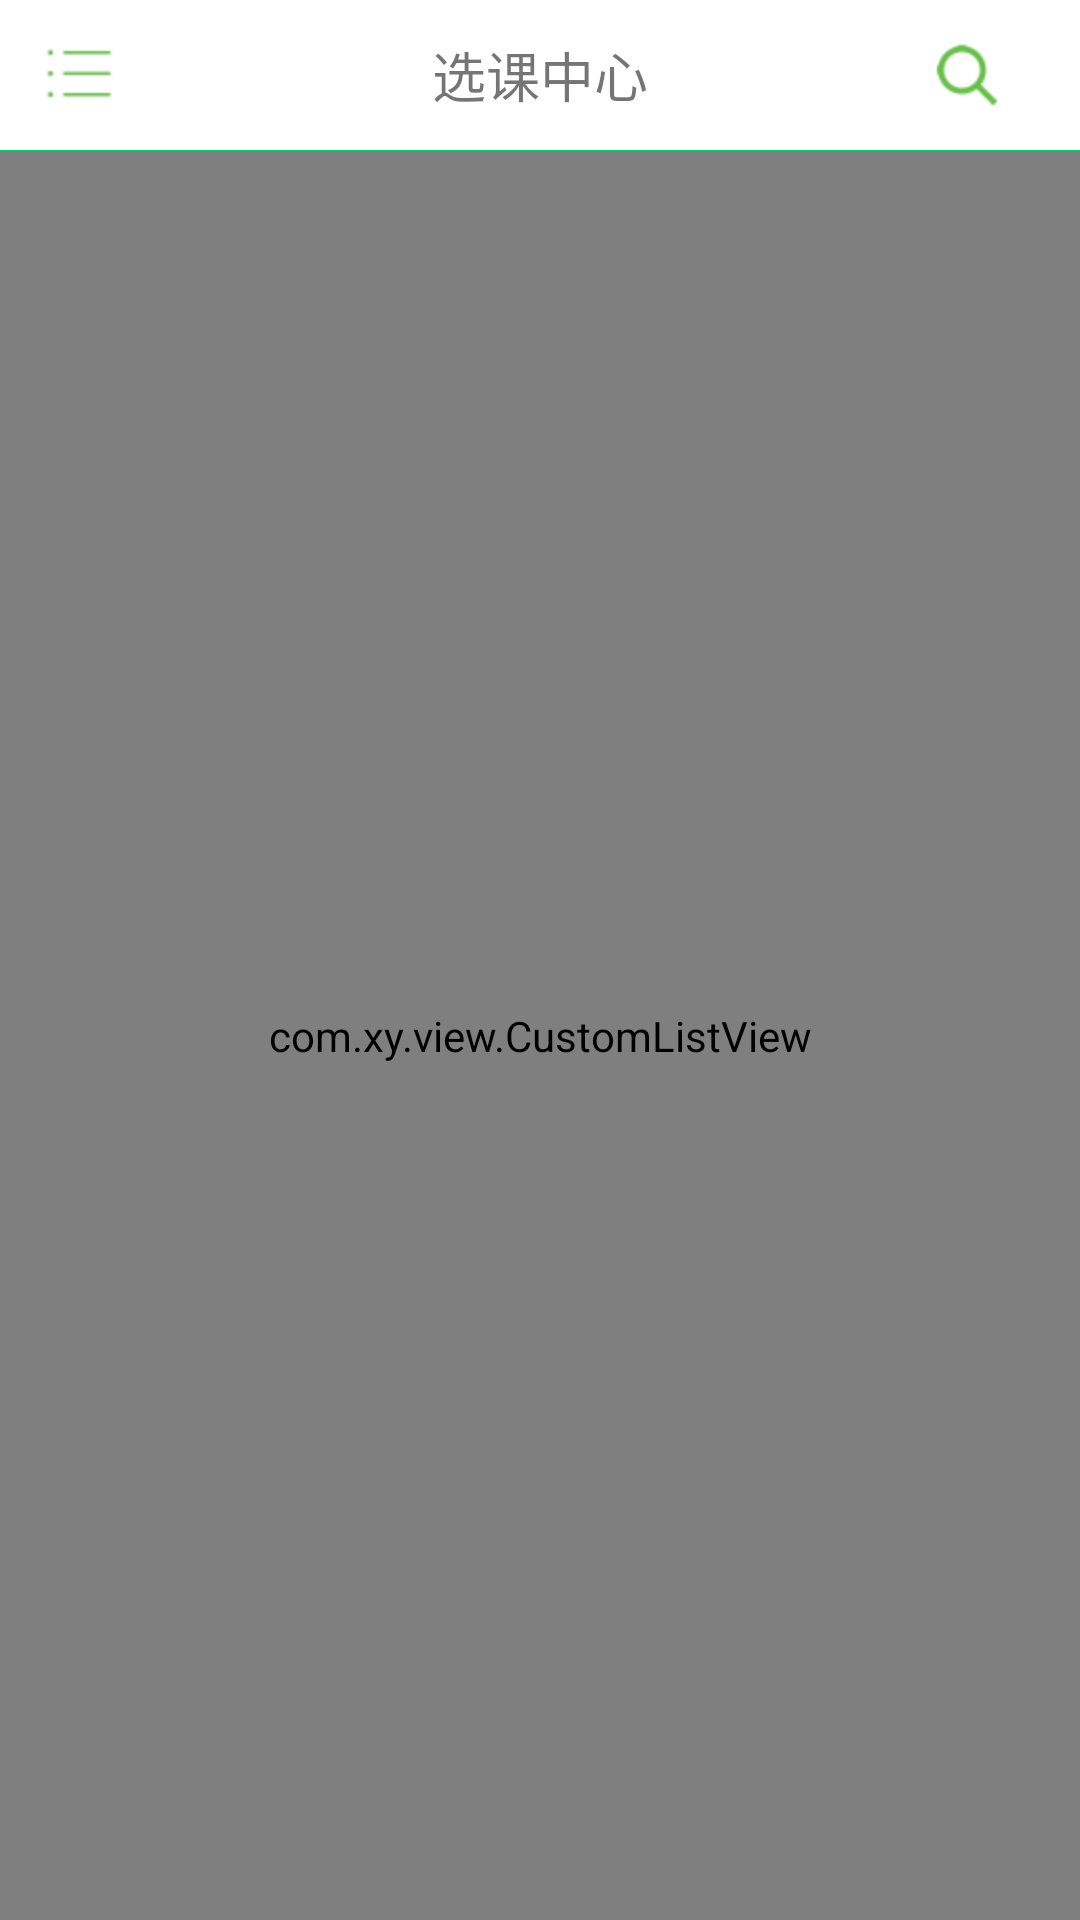

Icons on this 1080px x 1920px Android screen, each with its box as bbox=[x1, y1, x2, y2]:
category: bbox=[47, 49, 112, 98]
note icosearch: bbox=[936, 44, 998, 106]
